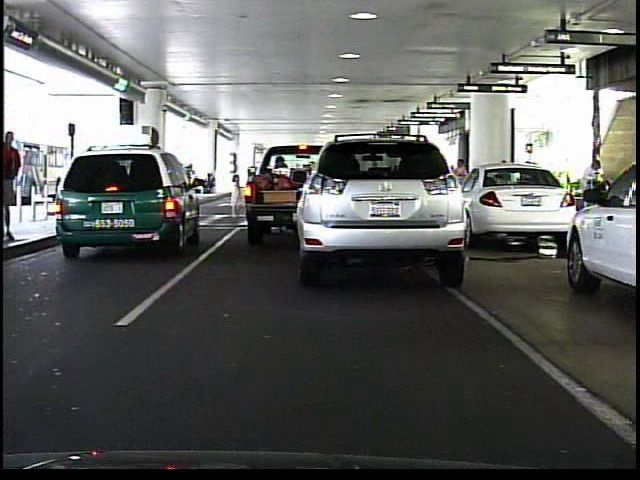person: (219, 169, 248, 223), (451, 156, 471, 209)
